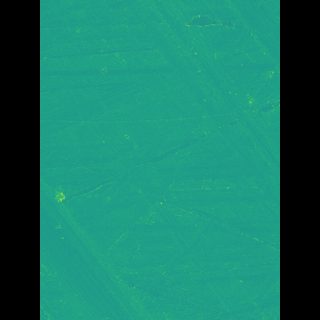Loch: (134, 0, 250, 190), (69, 173, 155, 320)
